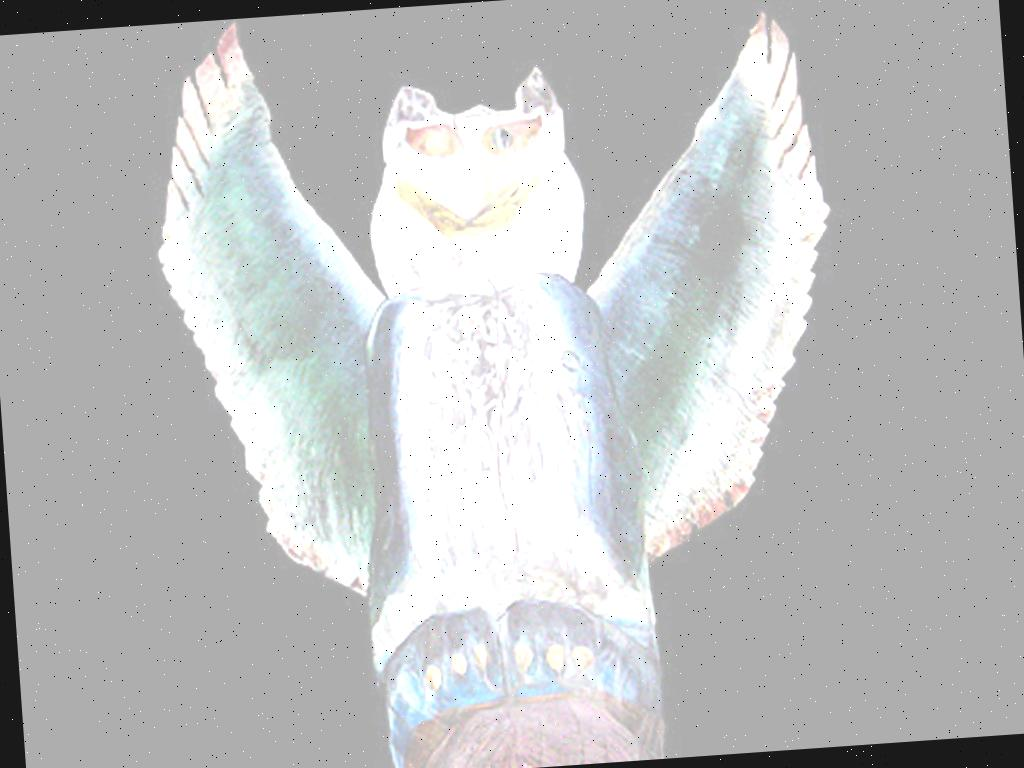Owl: (138, 0, 867, 707)
